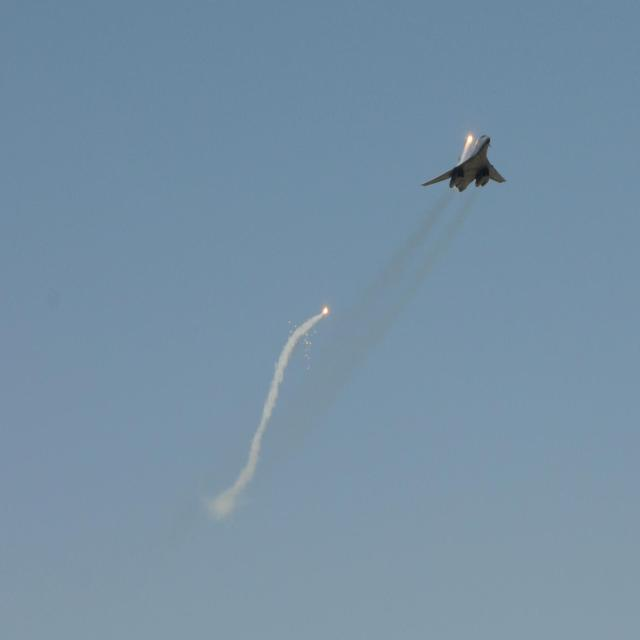MIL_Plane: (414, 71, 501, 128)
